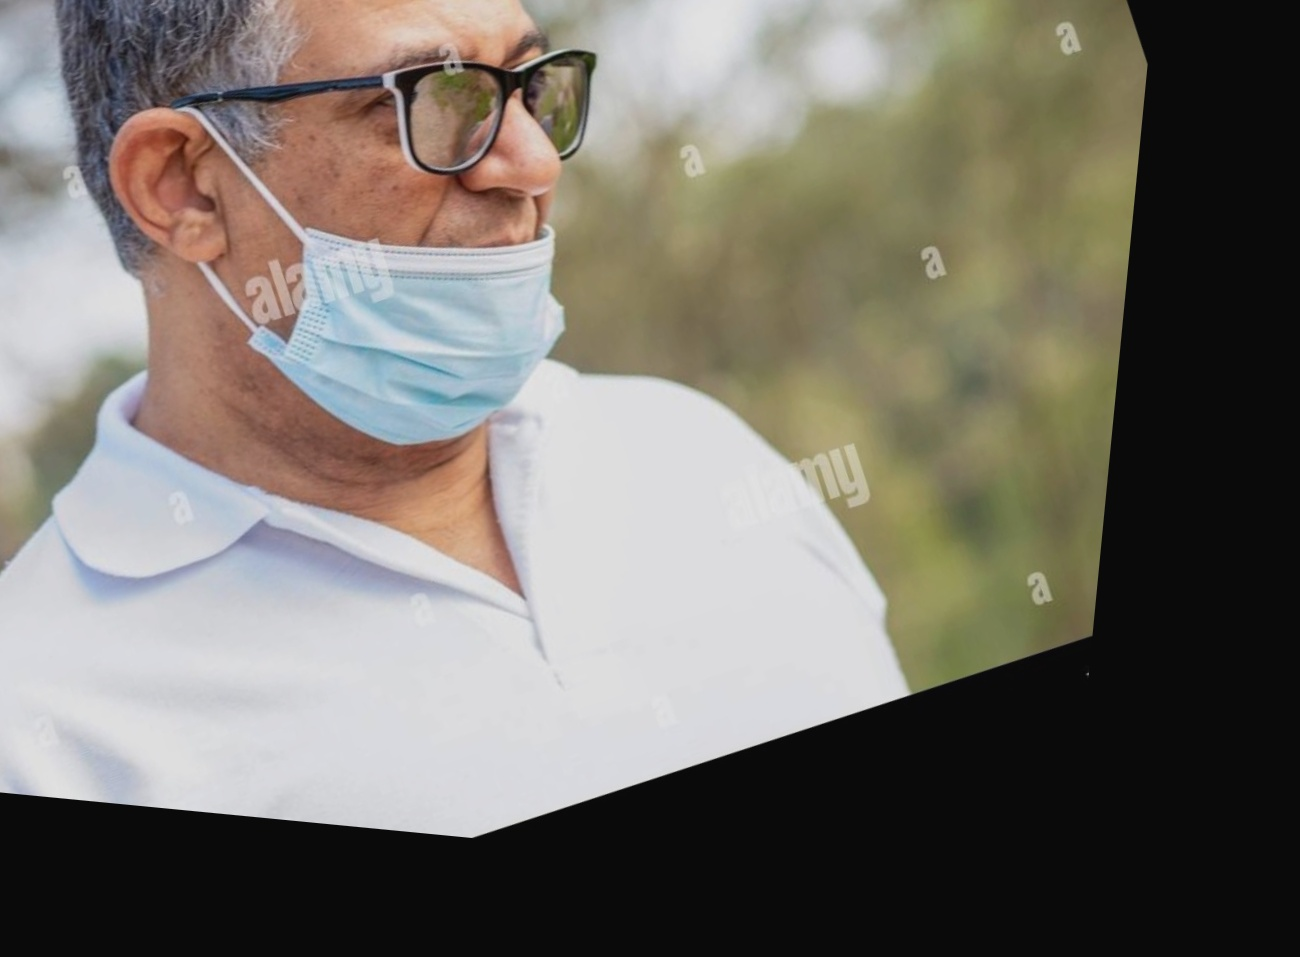mask_weared_incorrect: (166, 1, 615, 442)
